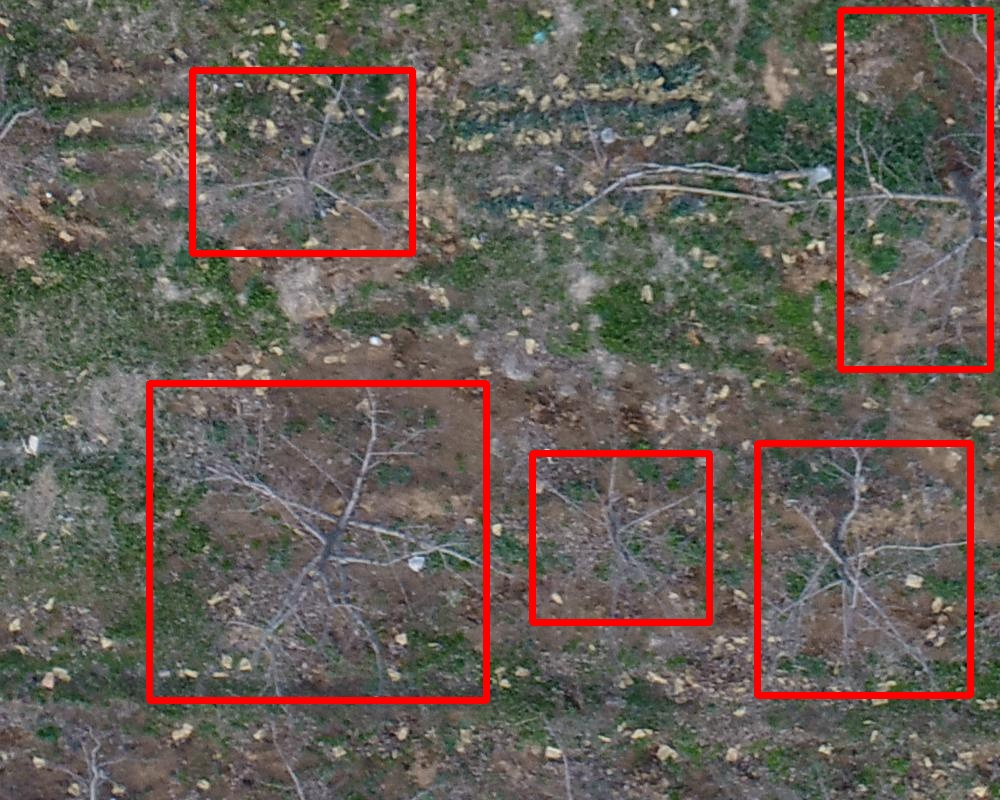apple: (149, 383, 486, 700), (840, 10, 990, 369), (757, 443, 970, 695), (192, 70, 412, 253), (532, 453, 709, 622)
